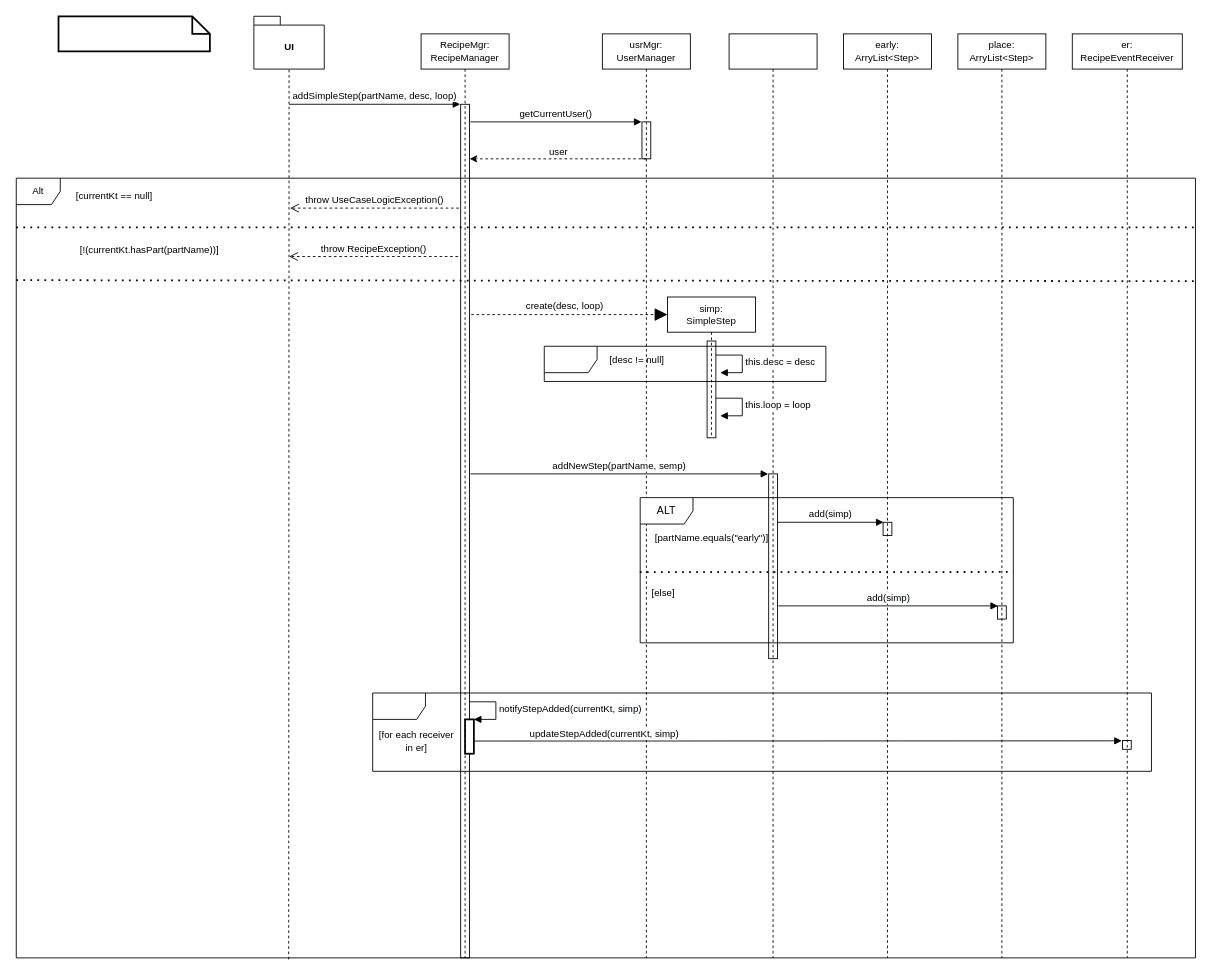
Some shapes in this 1212 by 976 pixel diagram are drawn without their labels. The shapes that lost their labels are listed below. From the top down, each one's box as (x1, y1, x2, y2) in pixels, then its label:
(57, 15, 210, 52): 5. addSimpleStep
(543, 345, 826, 381): OPT
(728, 33, 817, 958): currentKt: KitchenTask
(372, 692, 1151, 771): loop
